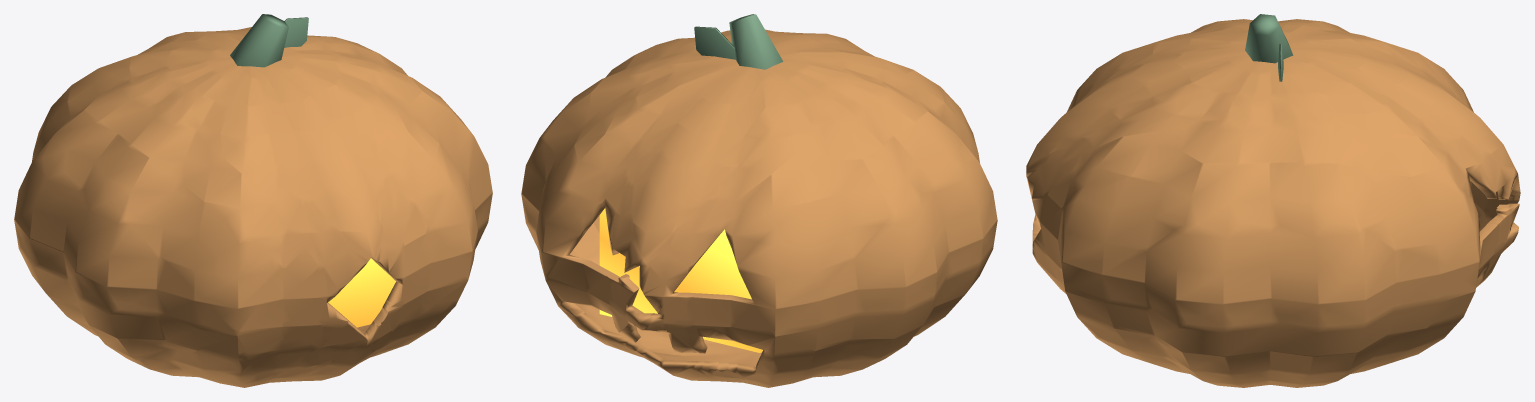
The model's file is jack_o_lantern_low.glb.
3 renders of one model, left to right at view 1: azimuth 30°, elevation 25°; view 2: azimuth 150°, elevation 25°; view 3: azimuth 270°, elevation 25°, orthographic. The views are drawn at different scales.
Size of the model in its own units: 6.85 by 5.48 by 7.06.
